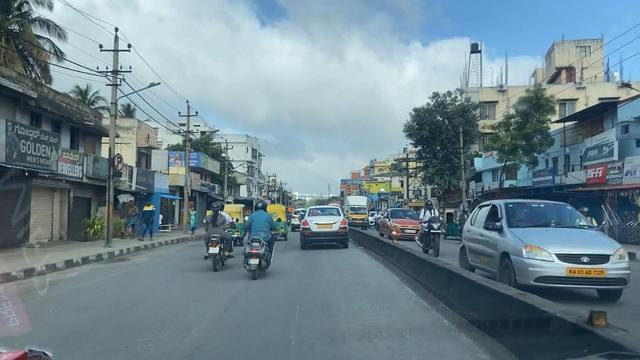LMV: (301, 204, 349, 248), (247, 198, 269, 280), (207, 202, 228, 268)
